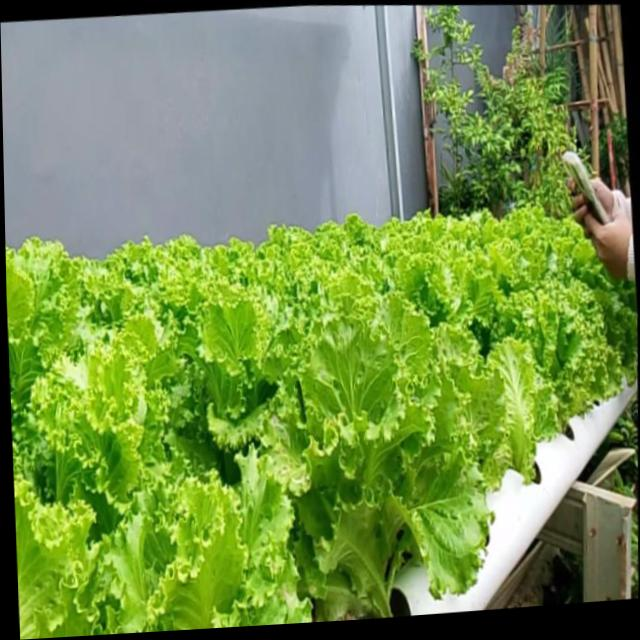Mature: (6, 205, 637, 640), (282, 331, 481, 618), (489, 249, 636, 467)
